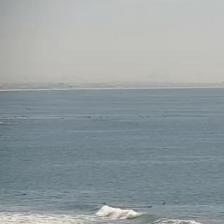surfer: (146, 205, 152, 208), (162, 202, 166, 206), (22, 193, 26, 196), (101, 202, 106, 204)
